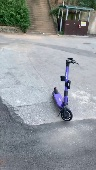beam: (50, 57, 82, 123)
